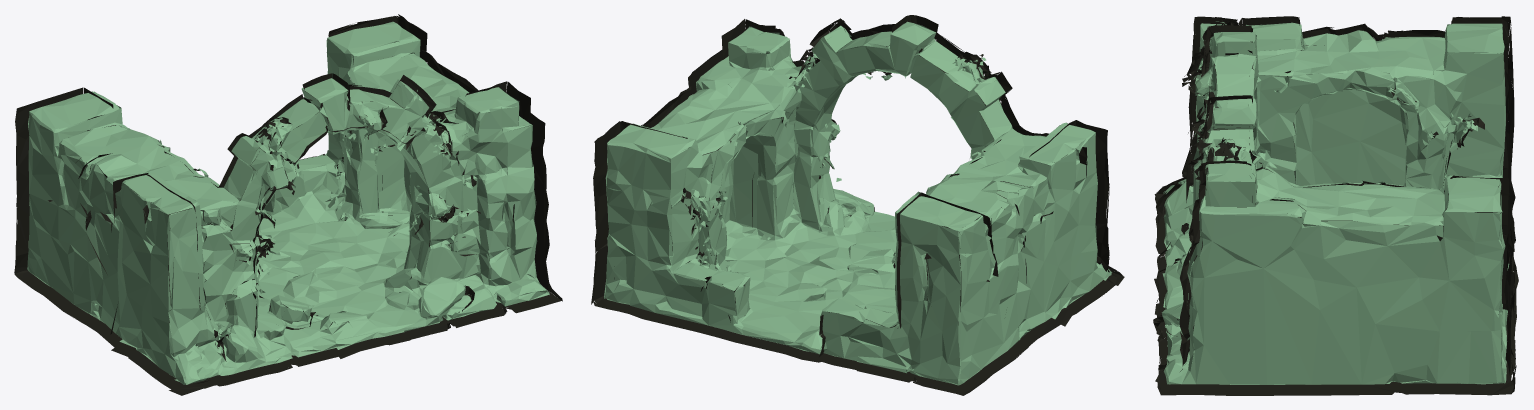
File: df_v2_broken_stone_arch_c_a.glb
The picture shows the model from 3 angles, left to right: view 1: azimuth 30°, elevation 25°; view 2: azimuth 150°, elevation 25°; view 3: azimuth 270°, elevation 25°; orthographic projection. The views are drawn at different scales.
Visible parts, largest first — view 1: broken_stone_arch_c_mesh_01, broken_stone_arch_c_mesh_01_ink_outline; view 2: broken_stone_arch_c_mesh_01, broken_stone_arch_c_mesh_01_ink_outline; view 3: broken_stone_arch_c_mesh_01, broken_stone_arch_c_mesh_01_ink_outline.
Boxes of the visible parts, box(x1,y1,x2,y2) form: broken_stone_arch_c_mesh_01: box(27, 21, 549, 384); broken_stone_arch_c_mesh_01_ink_outline: box(14, 14, 562, 395); broken_stone_arch_c_mesh_01: box(604, 21, 1111, 385); broken_stone_arch_c_mesh_01_ink_outline: box(591, 15, 1124, 395); broken_stone_arch_c_mesh_01: box(1161, 21, 1509, 384); broken_stone_arch_c_mesh_01_ink_outline: box(1153, 16, 1518, 395).
Bounding box in the file's own units: 2.53 × 1.52 × 1.92.
